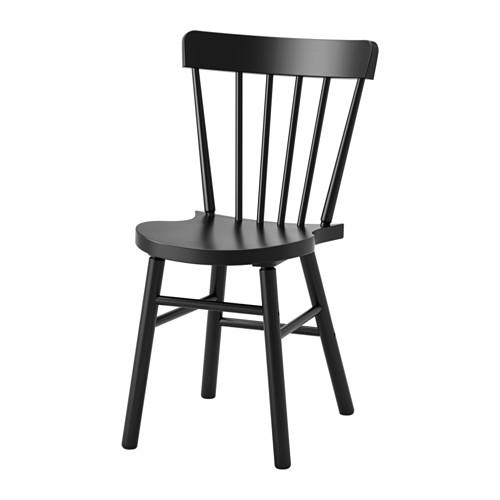chair: (118, 29, 382, 471)
